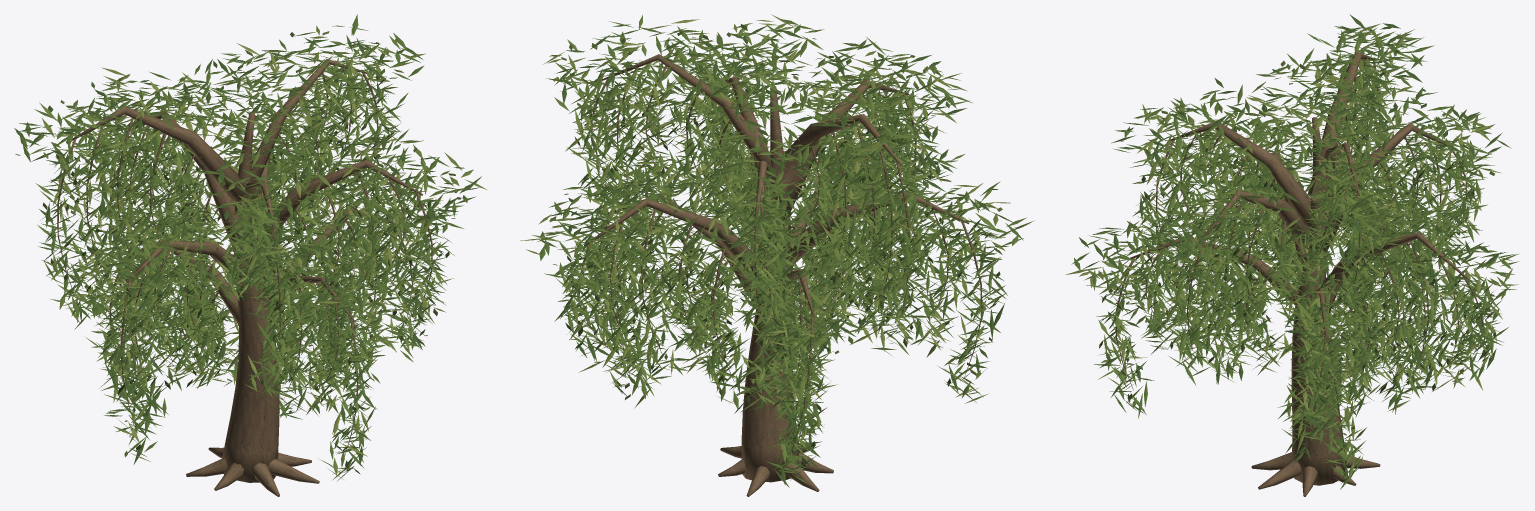
The model's file is willow-tree.glb.
The picture shows the model from 3 angles, left to right: view 1: azimuth 30°, elevation 25°; view 2: azimuth 150°, elevation 25°; view 3: azimuth 270°, elevation 25°; orthographic projection. The views are drawn at different scales.
Parts seen in each view (by area): view 1: 垂柳 · 立体叶冠, 垂柳 · 树干与枝系; view 2: 垂柳 · 立体叶冠, 垂柳 · 树干与枝系; view 3: 垂柳 · 立体叶冠, 垂柳 · 树干与枝系.
Part boxes in pixels (x1=…): 垂柳 · 立体叶冠: x1=14, y1=14, x2=486, y2=480; 垂柳 · 树干与枝系: x1=57, y1=58, x2=432, y2=496; 垂柳 · 立体叶冠: x1=520, y1=14, x2=1034, y2=487; 垂柳 · 树干与枝系: x1=577, y1=54, x2=982, y2=496; 垂柳 · 立体叶冠: x1=1065, y1=14, x2=1519, y2=489; 垂柳 · 树干与枝系: x1=1115, y1=52, x2=1483, y2=496.
Size of the model in its own units: 7.1 by 7 by 7.
5 materials, 1 textured.
